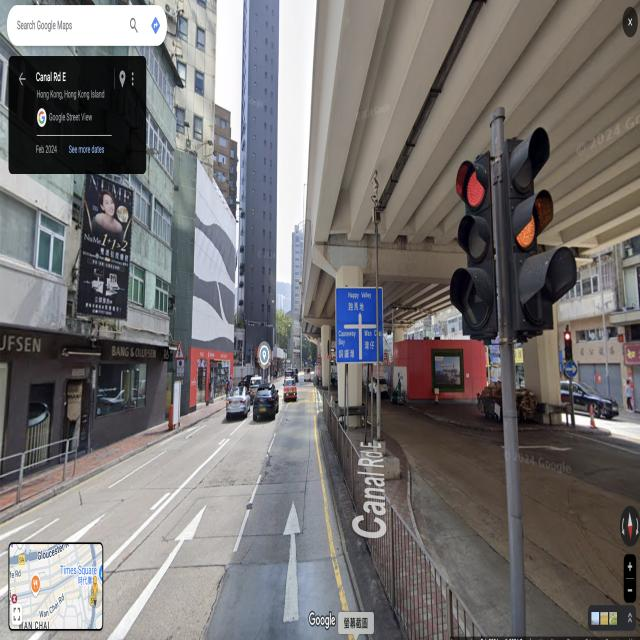Direction-Sign: (336, 287, 383, 363)
Order-Sign: (177, 359, 184, 378)
Warning-Sign: (174, 340, 185, 359)
